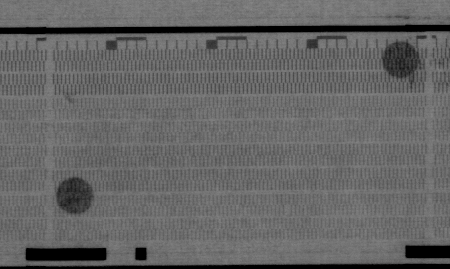Broken hole: (282, 204, 293, 218)
